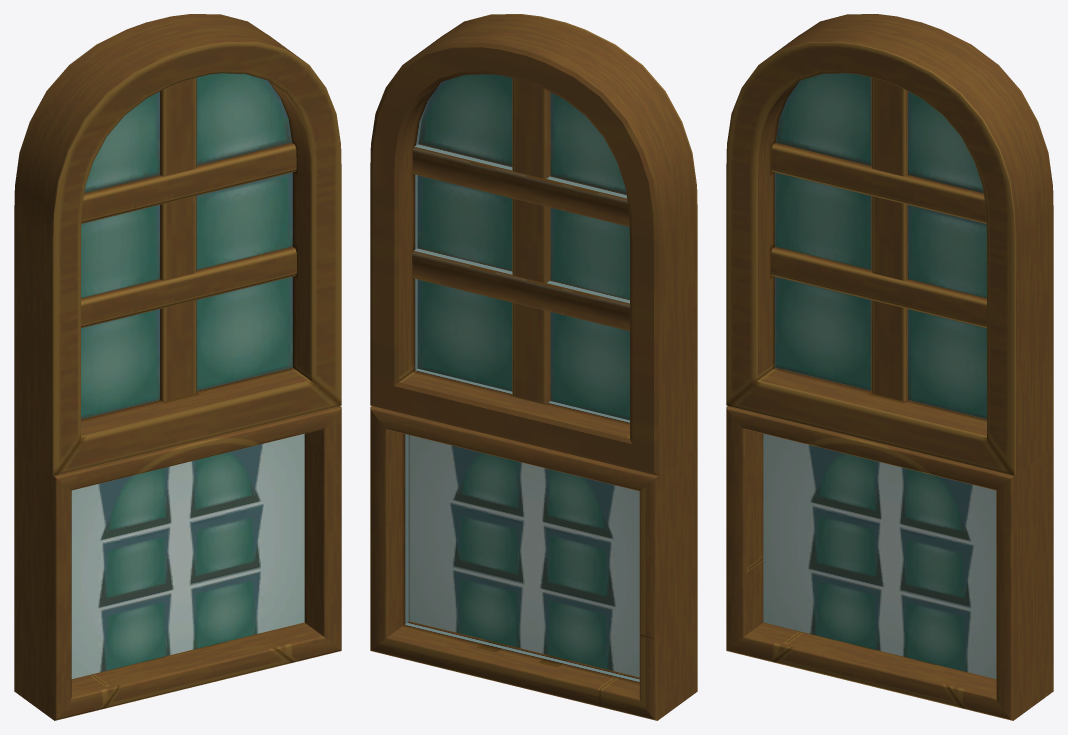
File: window.fbx
3 views of the same model, side by side, from view 1: azimuth 30°, elevation 25°; view 2: azimuth 150°, elevation 25°; view 3: azimuth 330°, elevation 25° (orthographic).
Parts seen in each view (by area): view 1: cross00__mFrame, Glass__mGlass, Glass0__mGlass, frame__mFrame; view 2: cross00__mFrame, Glass__mGlass, Glass0__mGlass, frame__mFrame; view 3: cross00__mFrame, Glass__mGlass, Glass0__mGlass, frame__mFrame.
Part boxes in pixels (x1,y1,x2,y2): cross00__mFrame: [14, 14, 341, 475]; Glass__mGlass: [71, 433, 304, 678]; Glass0__mGlass: [81, 73, 292, 418]; frame__mFrame: [14, 406, 341, 720]; cross00__mFrame: [370, 14, 697, 475]; Glass__mGlass: [409, 435, 639, 677]; Glass0__mGlass: [417, 74, 629, 420]; frame__mFrame: [370, 406, 697, 720]; cross00__mFrame: [726, 14, 1053, 475]; Glass__mGlass: [763, 433, 996, 678]; Glass0__mGlass: [775, 73, 986, 418]; frame__mFrame: [726, 406, 1053, 720].
Bounding box in the file's own units: 260 × 550 × 66.18.
